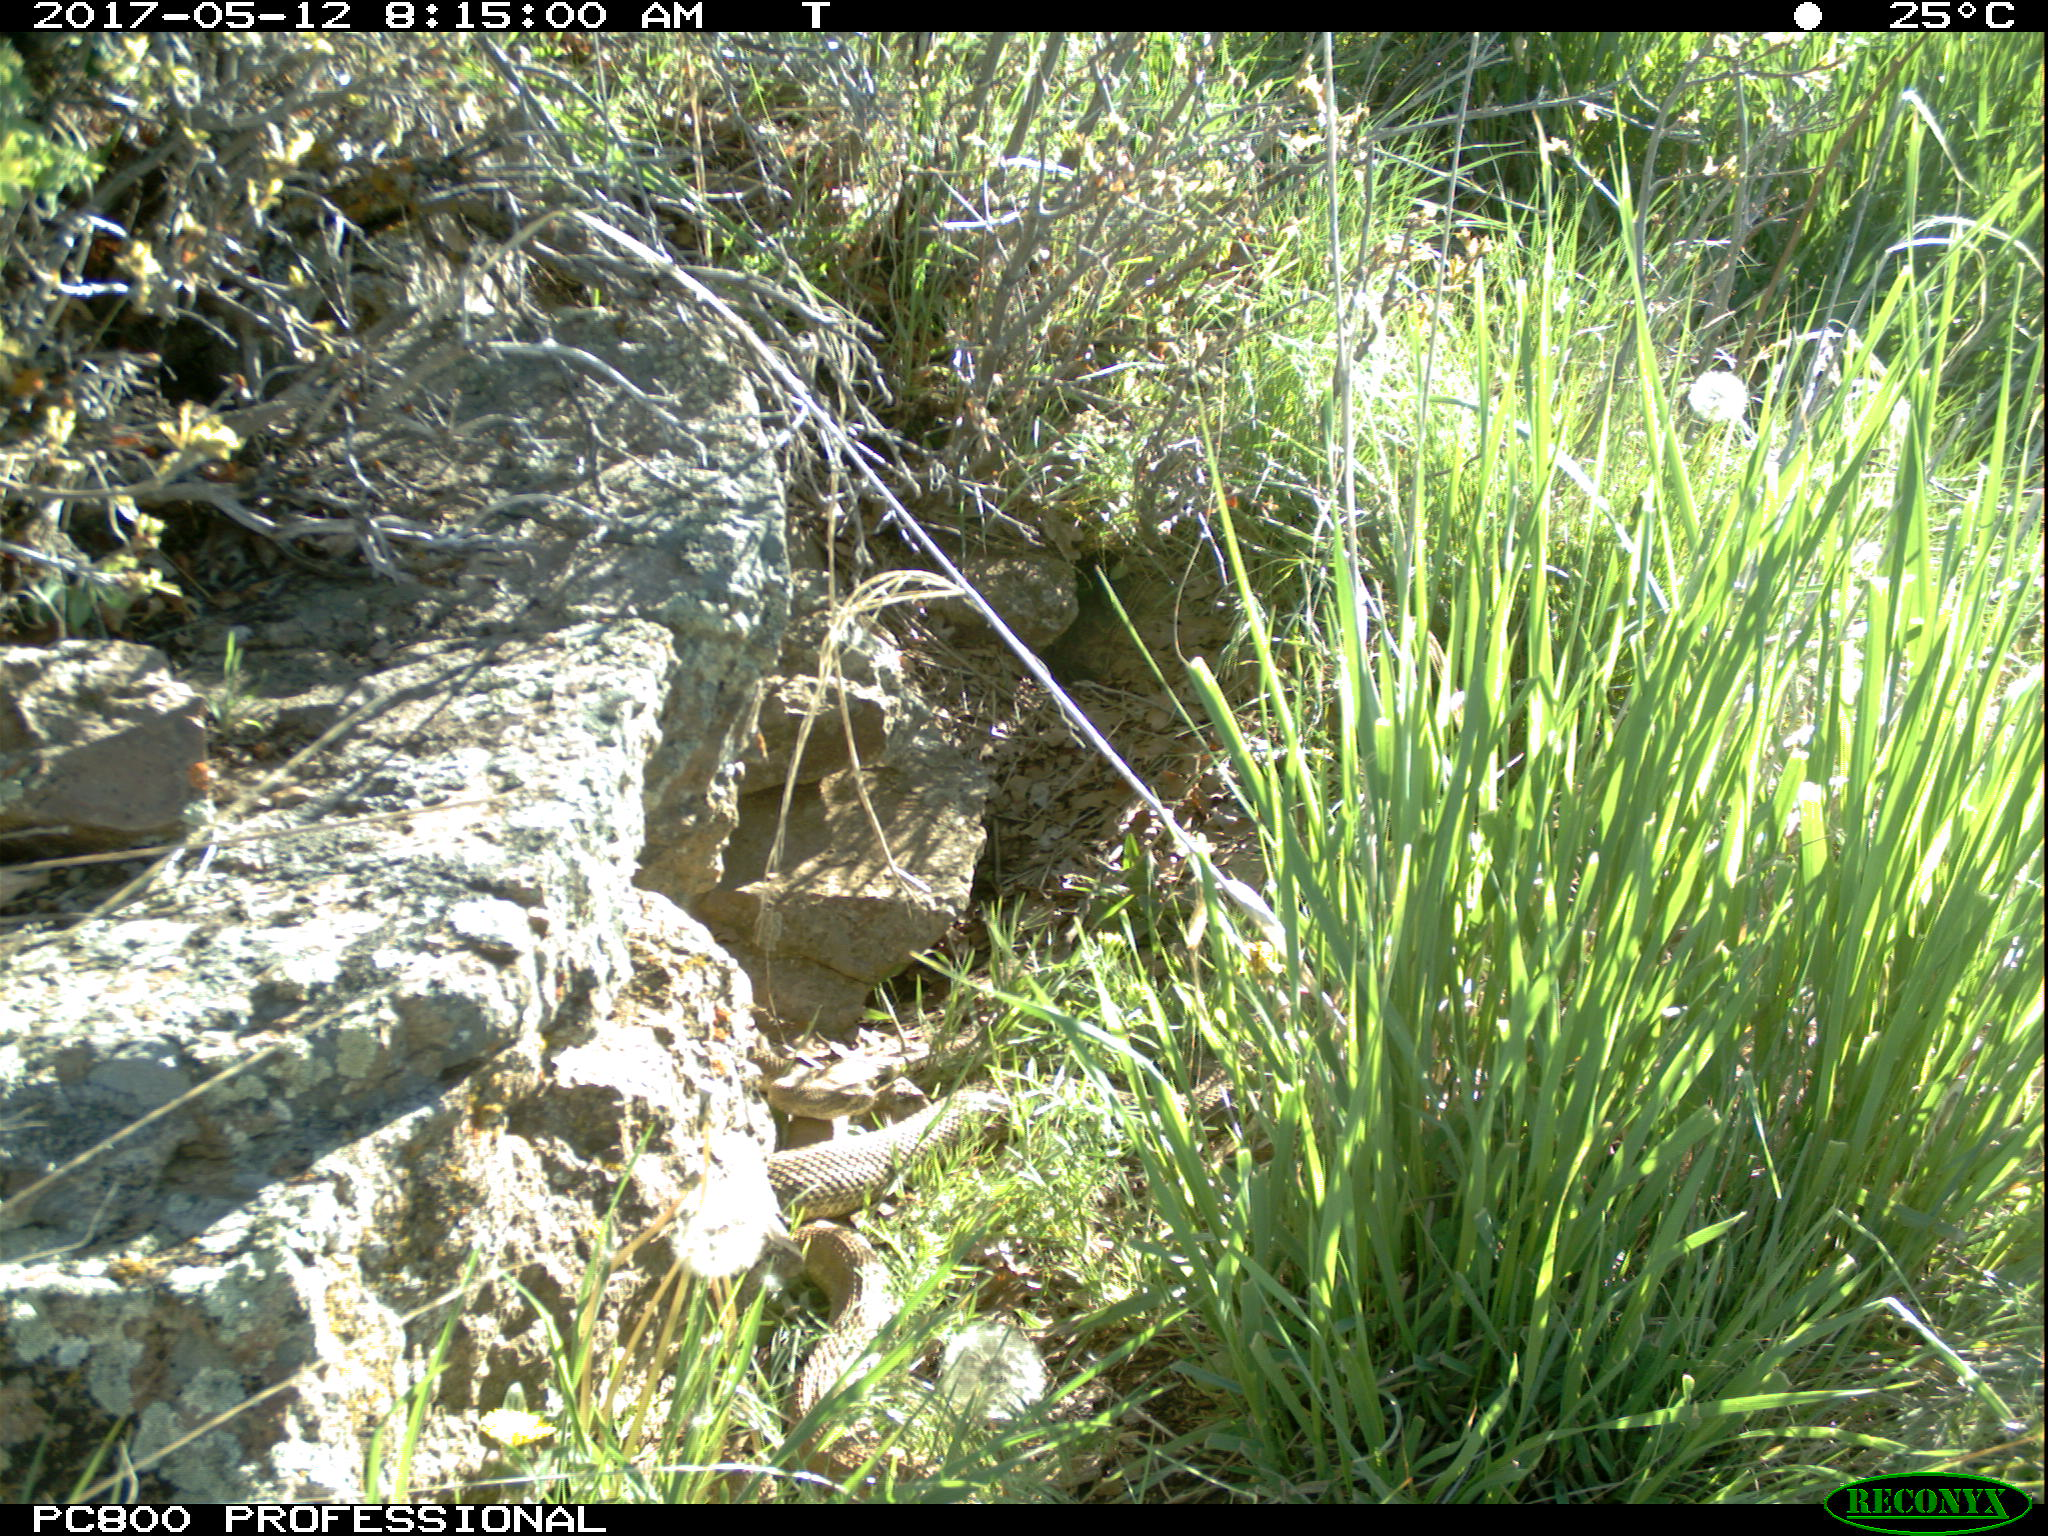snake: (769, 1076, 1034, 1221), (784, 1213, 918, 1480), (761, 1044, 937, 1129)
